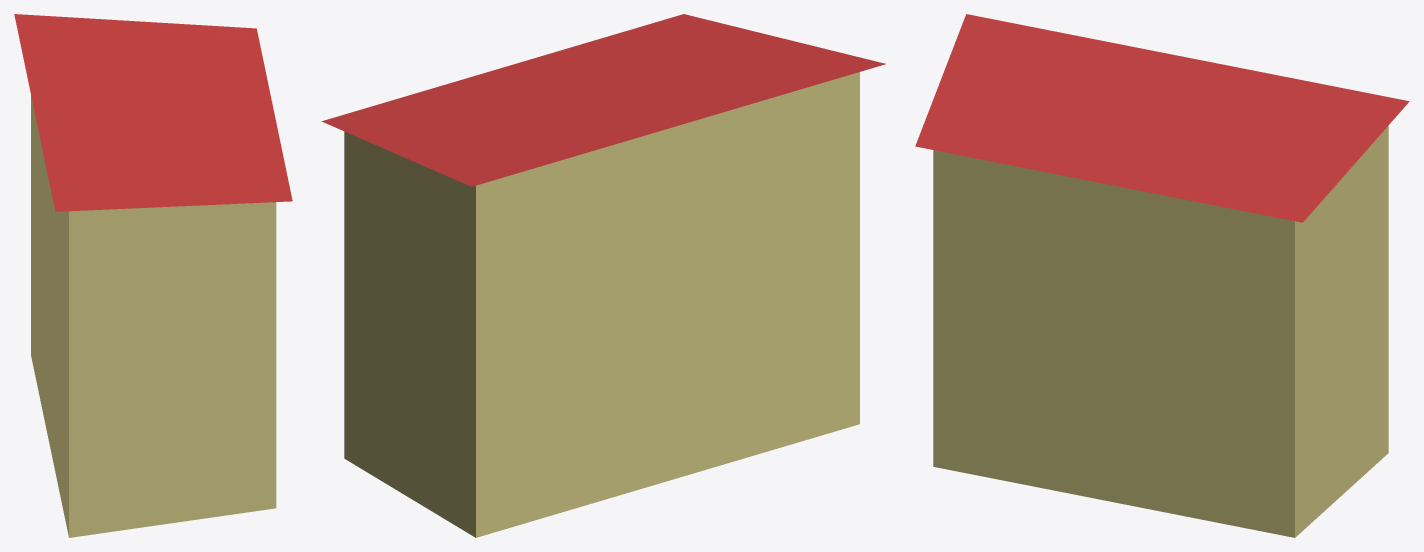
3 renders of one model, left to right at view 1: azimuth 30°, elevation 25°; view 2: azimuth 150°, elevation 25°; view 3: azimuth 270°, elevation 25°, orthographic. The views are drawn at different scales.
Bounding box in the file's own units: 6.82 × 7.73 × 6.01.
